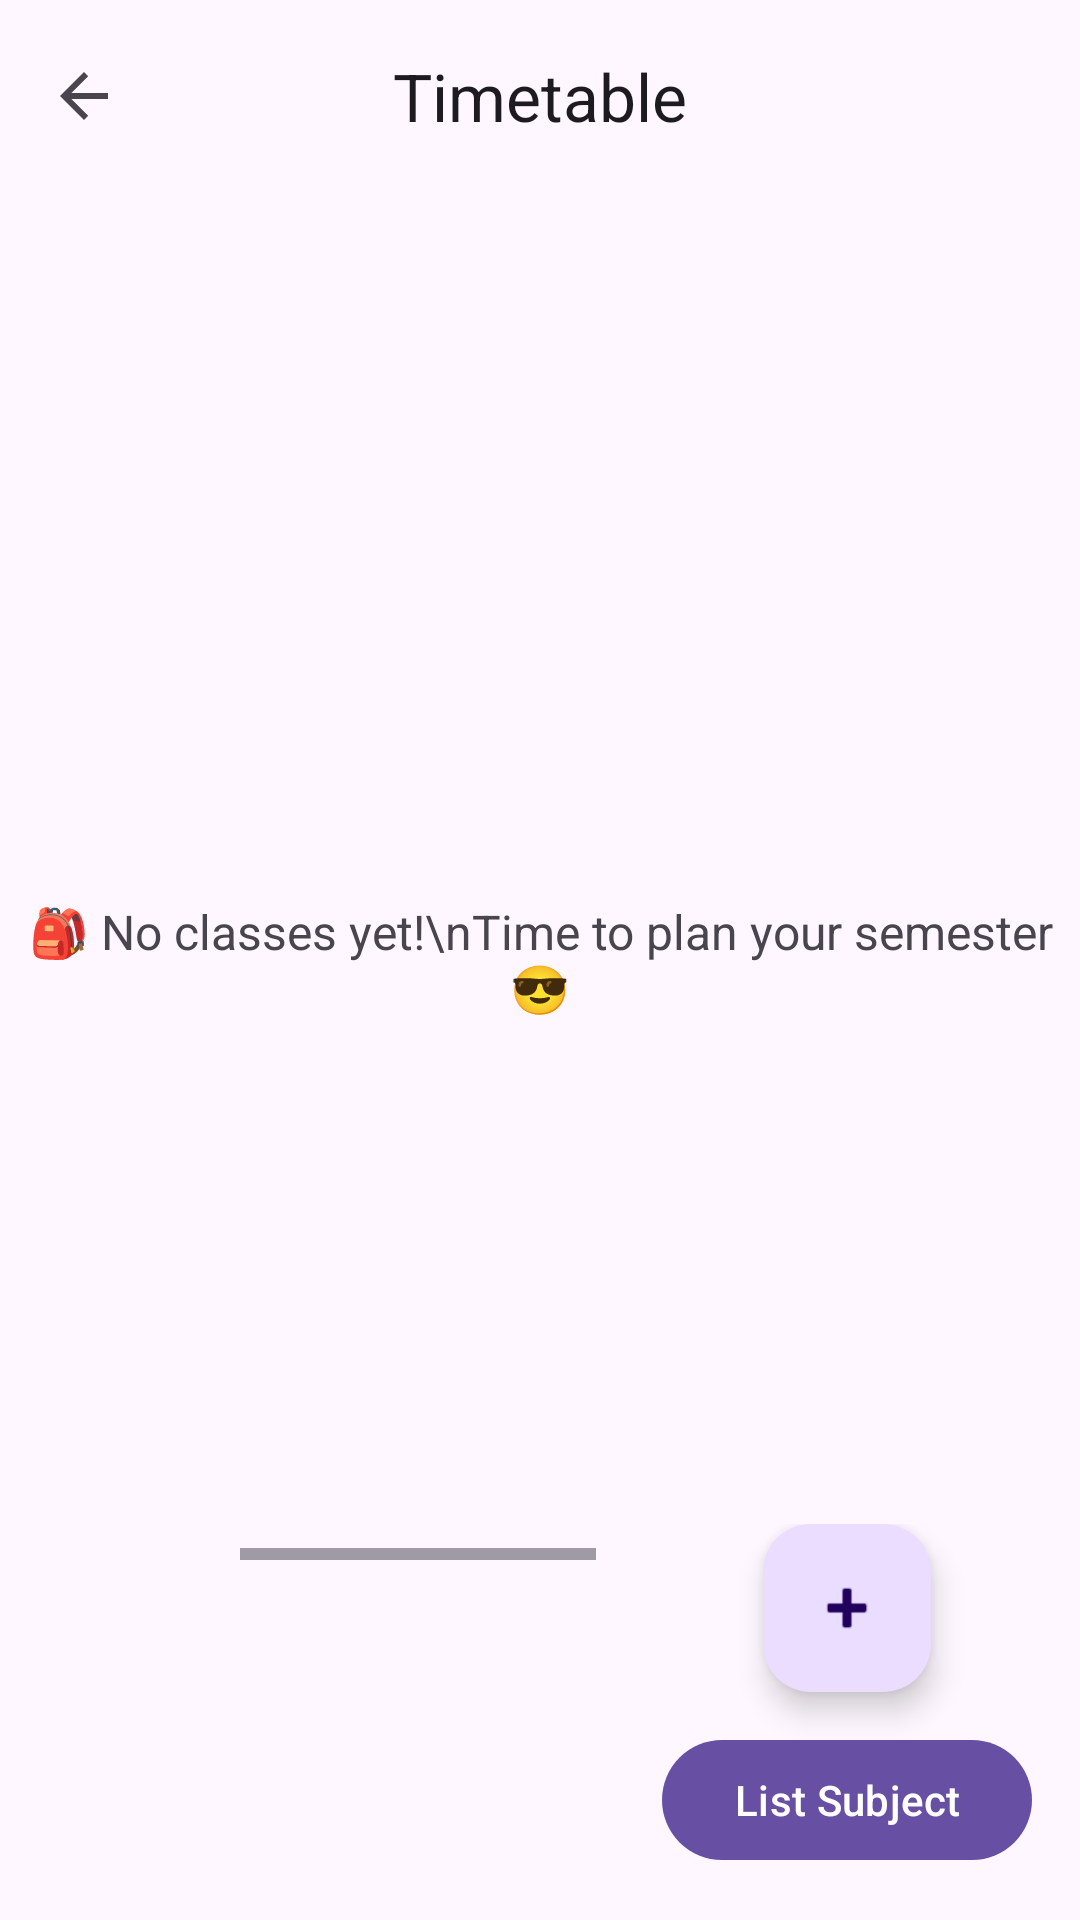

Screen size 1080 × 1920. Icon name, then its center in pixels as [x,y]:
add: [847,1608]
